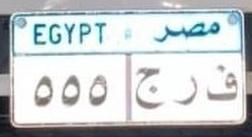5: (31, 73, 55, 112), (58, 71, 82, 109), (87, 72, 110, 110)
faa: (202, 60, 240, 105)
jeem: (134, 64, 164, 111)
raa: (169, 68, 200, 112)
